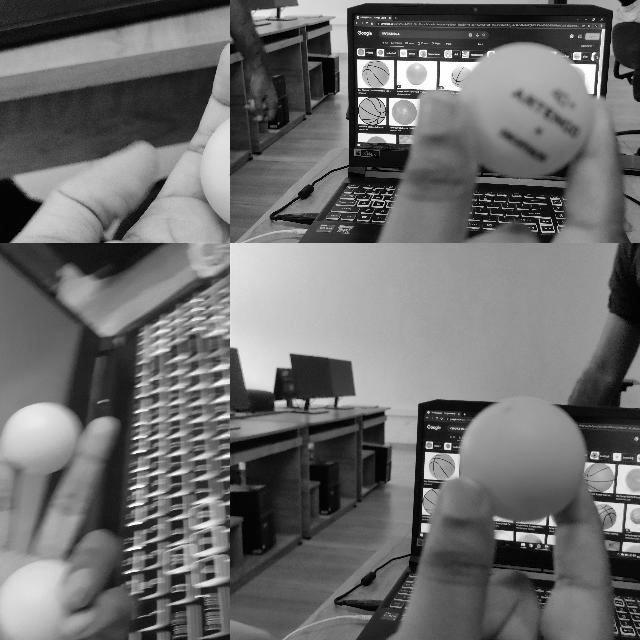ping-pong-ball: (454, 43, 592, 179), (460, 397, 582, 521), (1, 401, 81, 477), (0, 560, 76, 639), (201, 107, 229, 233)
